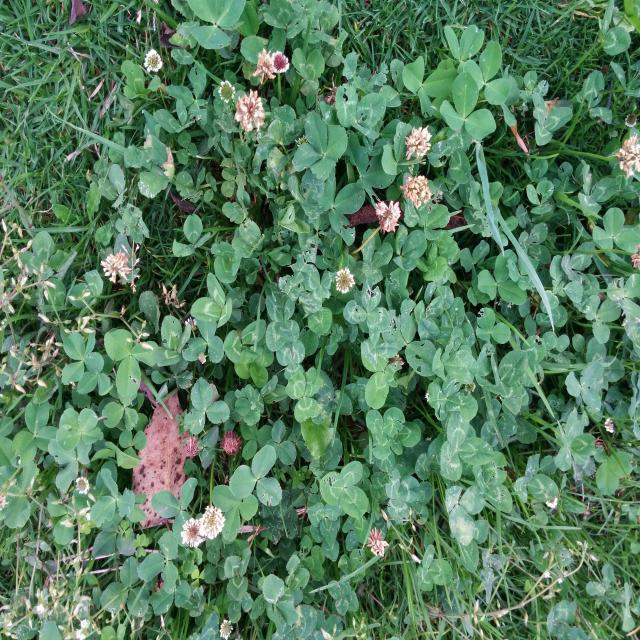Four Leaf Clover: (291, 110, 347, 181)
